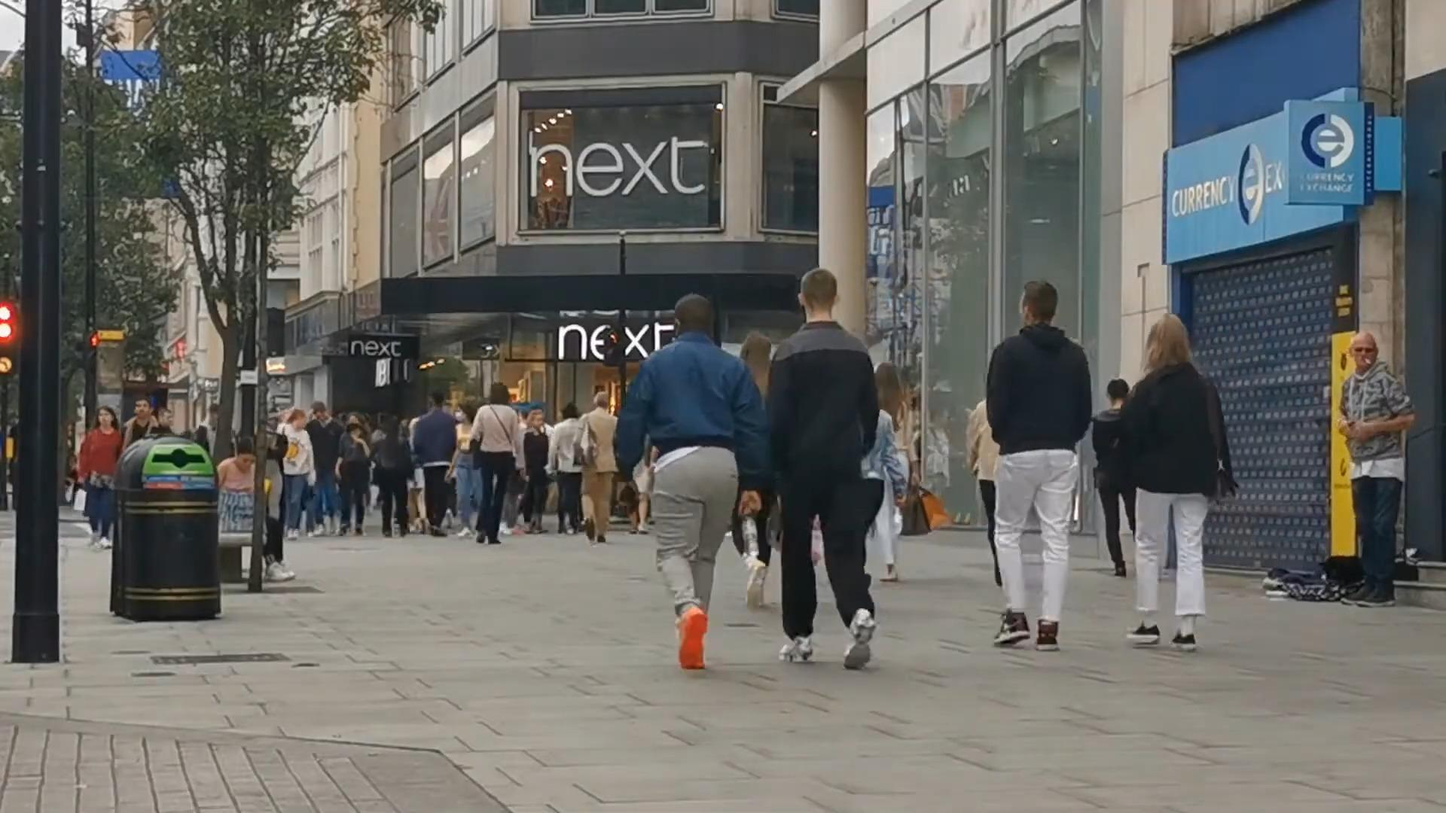no-helmet: (1143, 313, 1192, 367), (798, 267, 839, 317), (1019, 279, 1058, 328), (674, 294, 714, 339), (1349, 332, 1378, 371), (875, 362, 905, 399), (236, 434, 257, 471), (1106, 378, 1130, 407), (93, 405, 118, 427), (489, 382, 511, 406), (346, 412, 369, 433), (455, 401, 477, 422), (133, 397, 153, 419), (286, 409, 308, 429), (524, 409, 544, 428), (593, 392, 610, 411)
